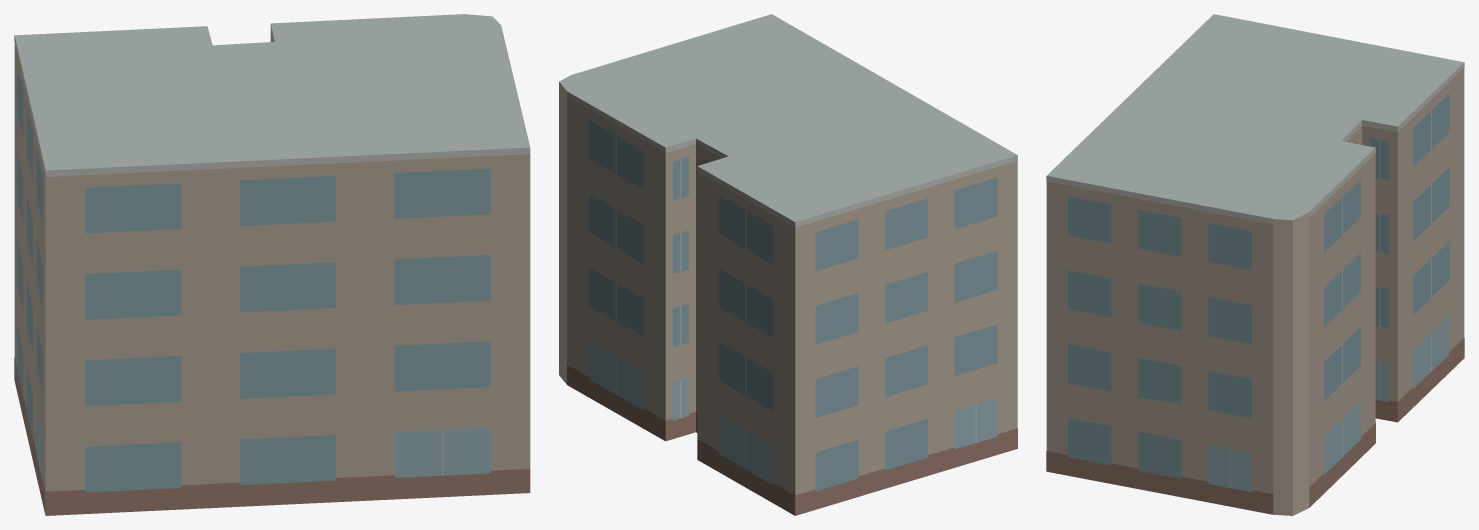
Rendered from survey-upis-32658787.glb.
The picture shows the model from 3 angles, left to right: view 1: azimuth 30°, elevation 25°; view 2: azimuth 150°, elevation 25°; view 3: azimuth 270°, elevation 25°; orthographic projection. The views are drawn at different scales.
Visible parts, largest first — view 1: survey-upis-32658787.tmp; view 2: survey-upis-32658787.tmp; view 3: survey-upis-32658787.tmp.
Boxes of the visible parts, box(x1,y1,x2,y2) form: survey-upis-32658787.tmp: box(14, 14, 530, 515); survey-upis-32658787.tmp: box(559, 14, 1017, 515); survey-upis-32658787.tmp: box(1046, 14, 1464, 515).
Bounding box in the file's own units: 19.3 × 12.91 × 16.54.
